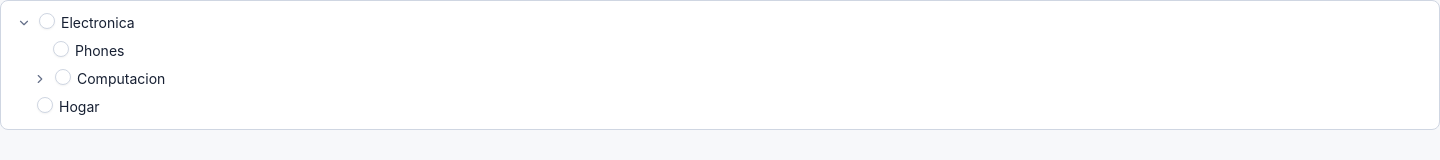
<TreeSelect> › expande/colapsa al click en el chevron
Expected: the text "Computacion" is shown, [77,70,165,87]
# Colapsar Computacion: ahora Laptops tampoco se ve (siempre estuvo oculto).
What coordinates should you click on to do the following:
click the button named "Colapsar"
I would click on:
 (24, 23)
Its box is [15,14,33,32].
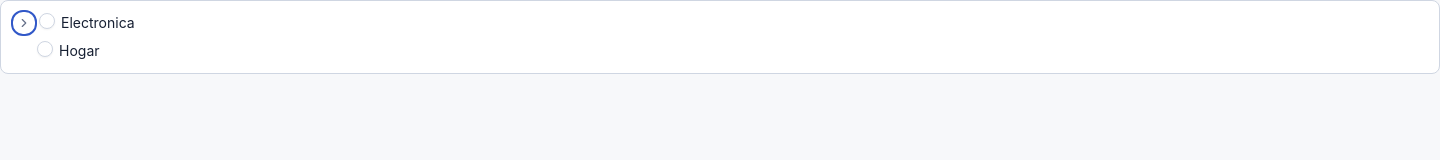
Expected: the text "Computacion" is gone
